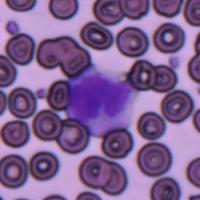M: (64, 67, 136, 136)
